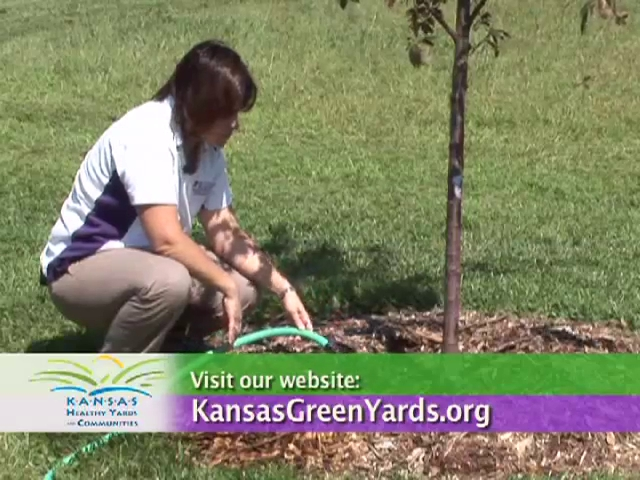person: (39, 40, 313, 354)
